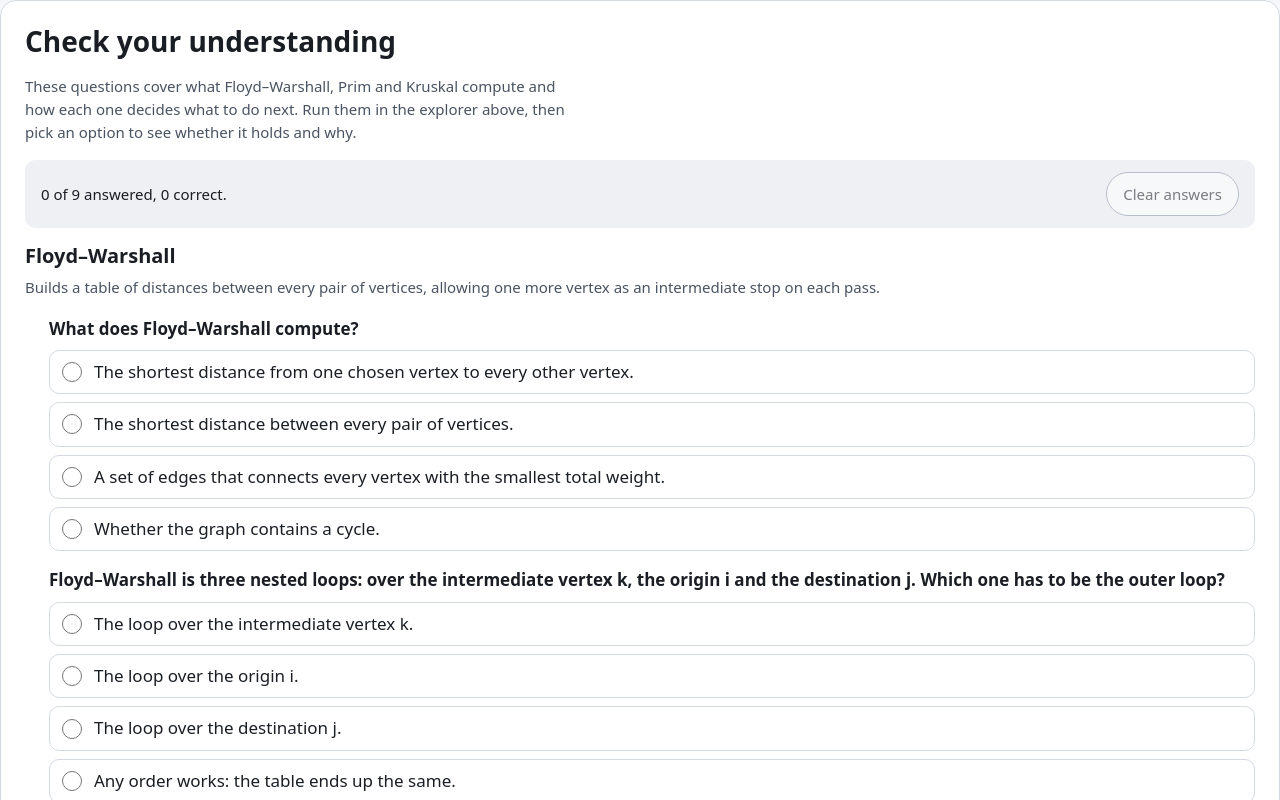
it: review questions › confirms an expected answer and shows the reasoning
What coordinates should you click on to do the following:
click the radio button labelled "The shortest distance between every pair of vertices."
I would click on:
 (72, 424)
Its box is 62,414 -> 82,434.
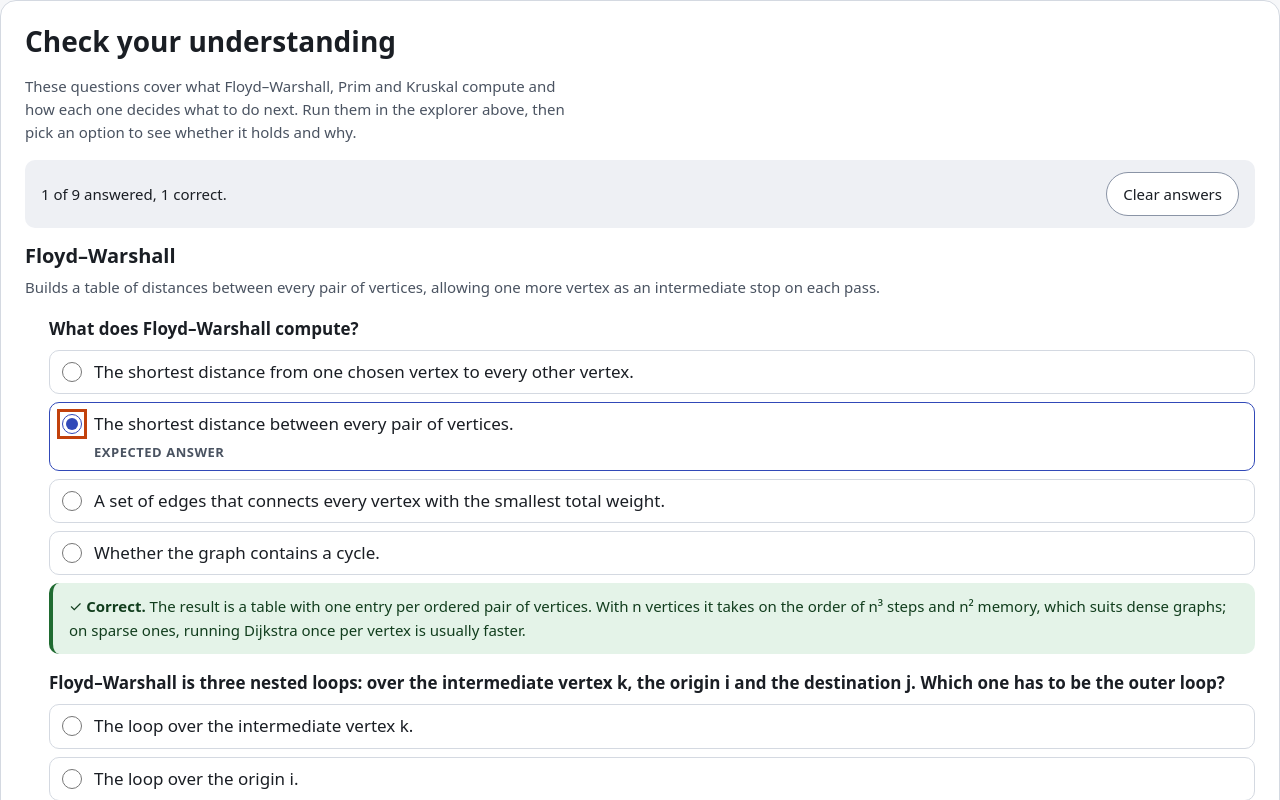
Expected: the text "Correct." is shown, 86,596 -> 146,616
Expected: the text "table with one entry per ordered pair" is shown, 69,596 -> 1226,640
Expected: the text "1 of 9 answered, 1 correct." is shown, 41,183 -> 227,206
